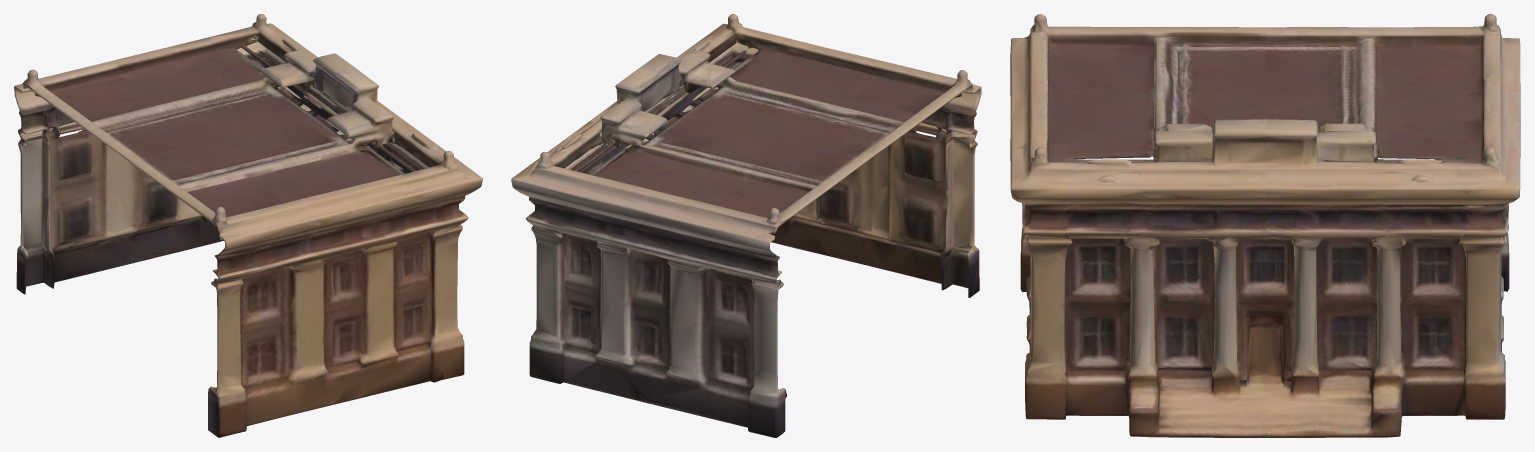
File: museum.glb
3 renders of one model, left to right at view 1: azimuth 30°, elevation 25°; view 2: azimuth 150°, elevation 25°; view 3: azimuth 270°, elevation 25°, orthographic. The views are drawn at different scales.
Parts seen in each view (by area): view 1: tripo_node_b9f7e287-c57e-43c1-886c-636b48c3de48; view 2: tripo_node_b9f7e287-c57e-43c1-886c-636b48c3de48; view 3: tripo_node_b9f7e287-c57e-43c1-886c-636b48c3de48.
Boxes of the visible parts, x1=… form: tripo_node_b9f7e287-c57e-43c1-886c-636b48c3de48: x1=14, y1=14, x2=482, y2=437; tripo_node_b9f7e287-c57e-43c1-886c-636b48c3de48: x1=511, y1=14, x2=981, y2=437; tripo_node_b9f7e287-c57e-43c1-886c-636b48c3de48: x1=1010, y1=14, x2=1520, y2=437.
Bounding box in the file's own units: 0.7208 × 0.5877 × 0.9495.
1 material, 1 textured.
